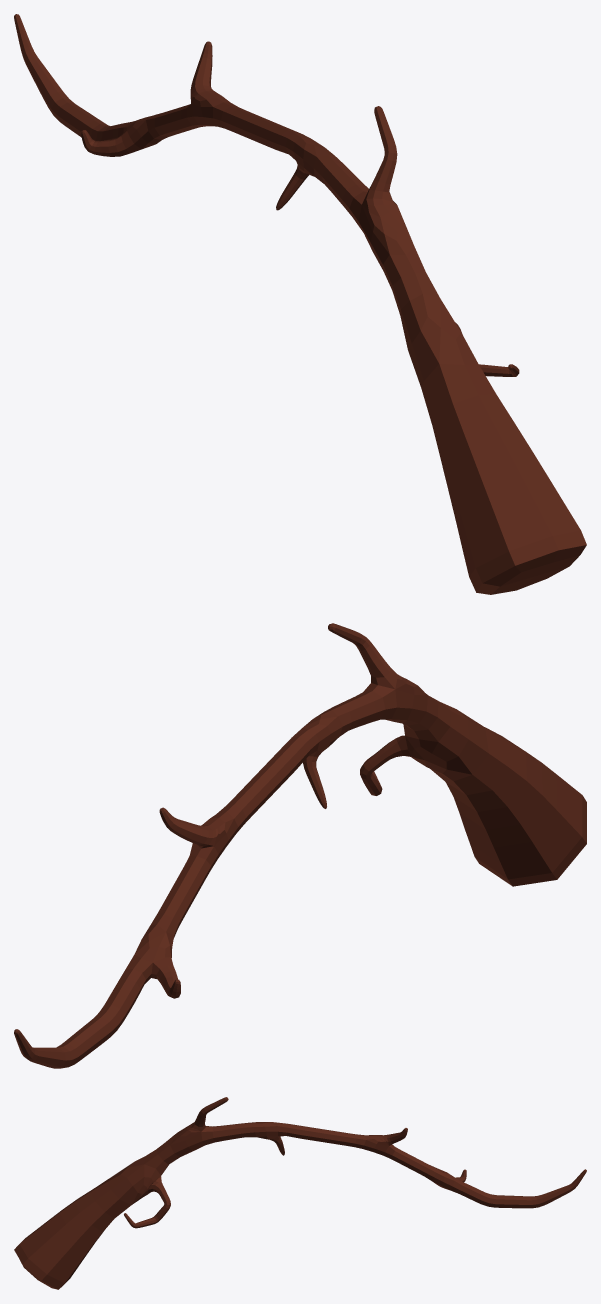
File: roots.fbx
The picture shows the model from 3 angles, top to bottom: view 1: azimuth 30°, elevation 25°; view 2: azimuth 150°, elevation 25°; view 3: azimuth 270°, elevation 25°; orthographic projection. The views are drawn at different scales.
Parts seen in each view (by area): view 1: racine; view 2: racine; view 3: racine.
Boxes of the visible parts, x1,y1,x2,y2 form: racine: (14, 14, 586, 594); racine: (14, 623, 586, 1068); racine: (14, 1097, 586, 1289).
Size of the model in its own units: 57.33 by 155 by 413.
